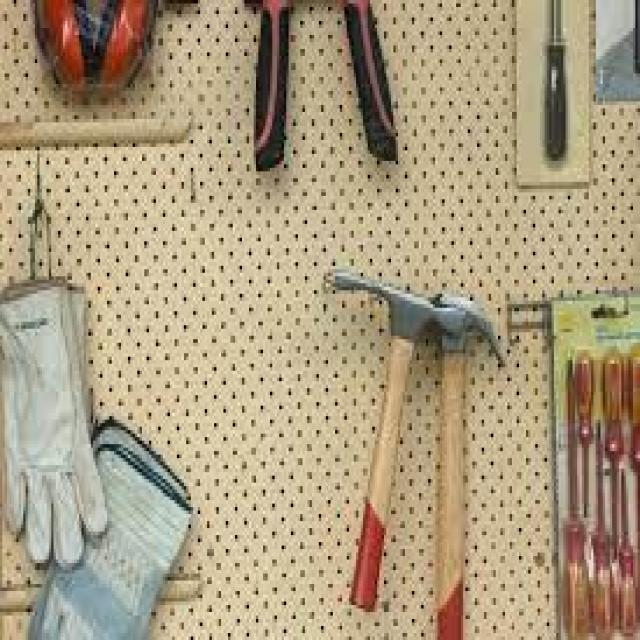hammer: (314, 217, 466, 640), (418, 283, 520, 640)
screwdriver: (559, 349, 580, 640), (604, 334, 628, 568), (582, 423, 606, 640), (608, 475, 634, 640), (580, 348, 594, 526)
